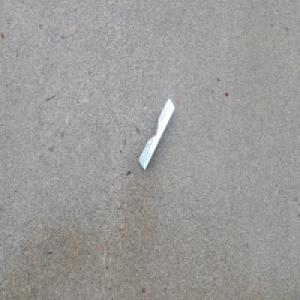ClampPart: (137, 97, 175, 171)
